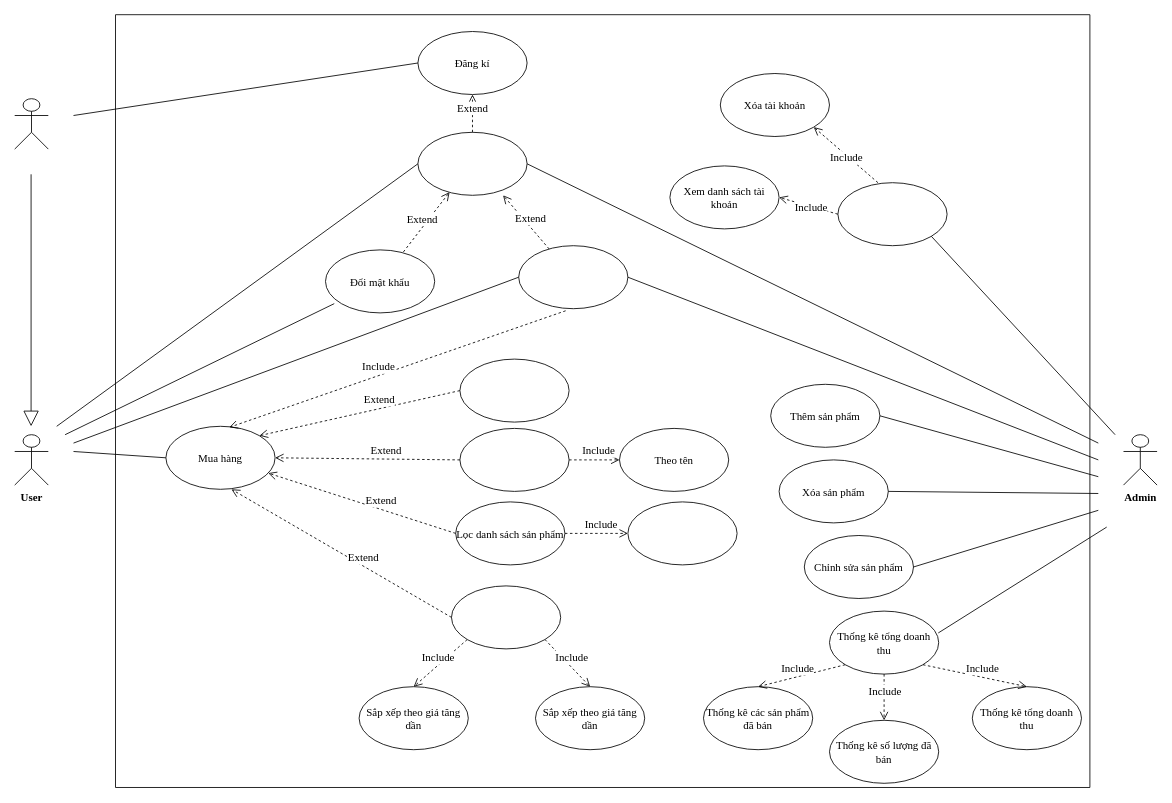
Image size: 1172x803. Some labels were removed from this diagram. Here are the shapes that lost their labels. From the top down, the box of each, then its label:
(14, 98, 48, 149): Guest
(417, 131, 527, 195): Đăng xuất
(837, 182, 947, 246): Quản lí tài khoản user
(518, 245, 628, 309): Đăng nhập
(459, 358, 569, 422): Xem danh sách sản phẩm
(459, 428, 569, 491): Tìm kiếm sản phẩm
(627, 501, 737, 565): Theo hãng
(451, 585, 561, 649): Sắp xếp sản phẩm theo giá
